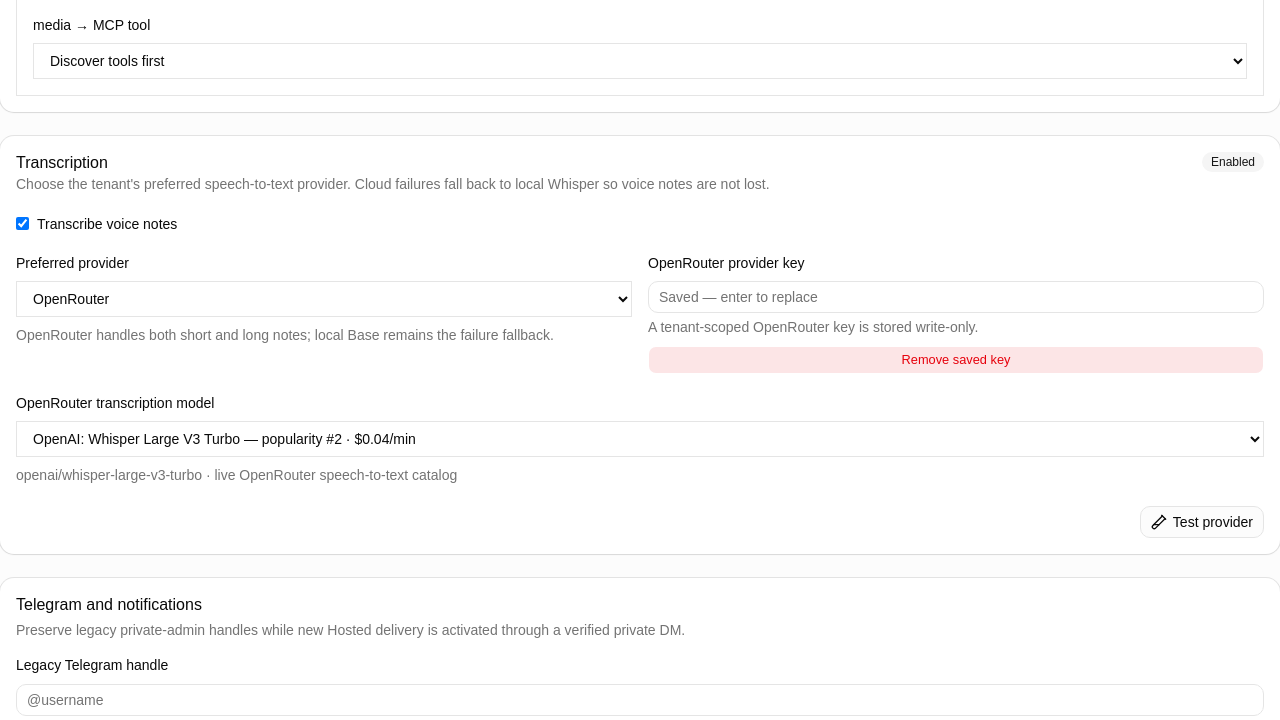
Phylax tenant transcription settings › removes a saved provider key and reflects the safe transcription disable
(page scrolled)
Click the button "Remove saved key" at (956,360), box 648,346 -> 1264,374
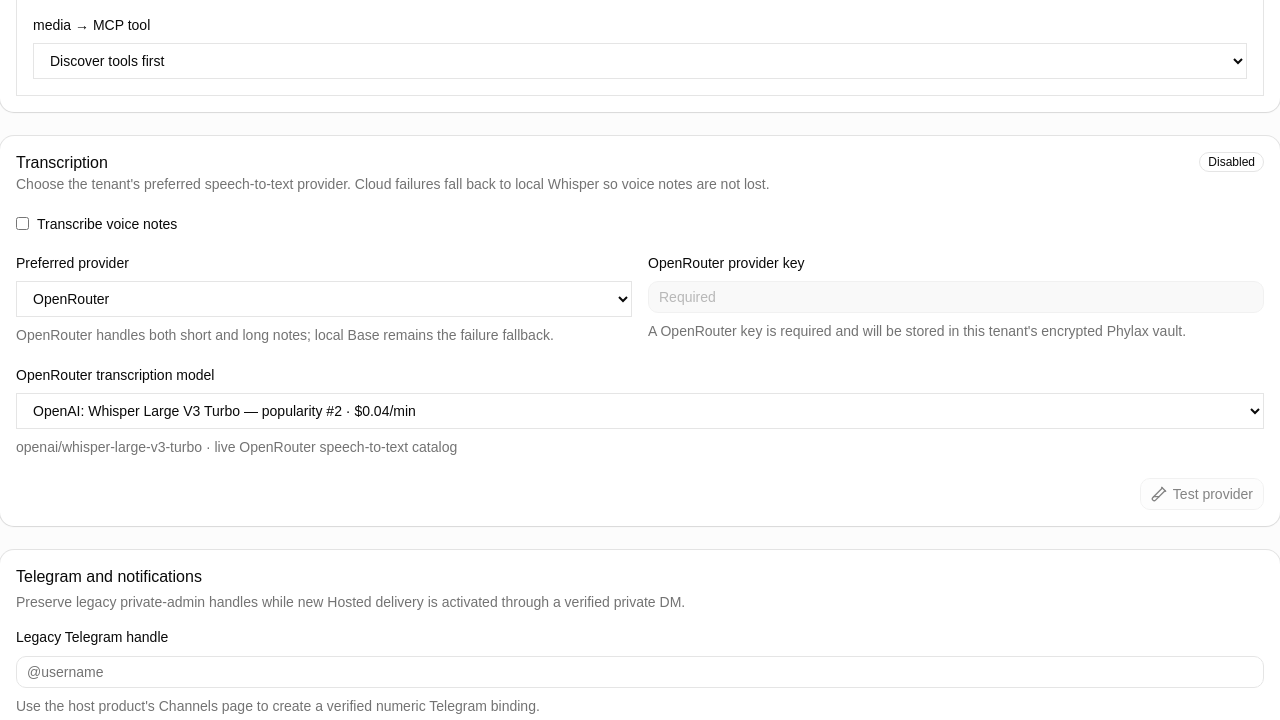
expect the checkbox labelled "Transcribe voice notes" is not checked: met, box 16,217 -> 29,230
